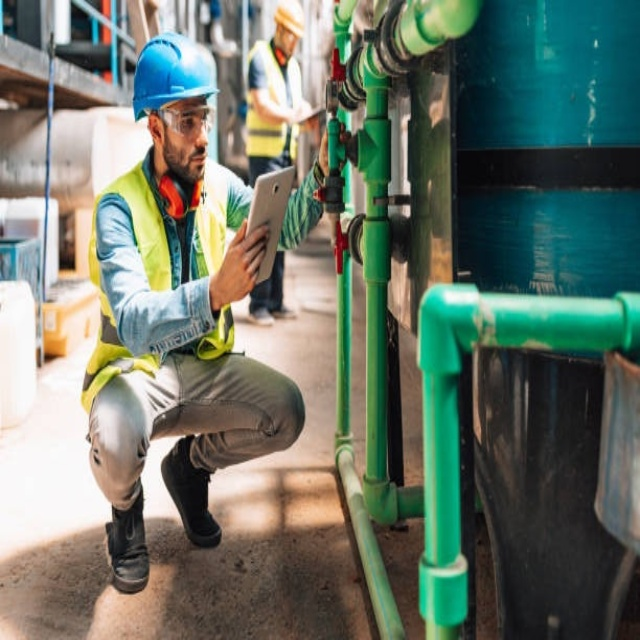Gafas: (158, 106, 215, 136), (281, 27, 300, 48)
Sin_guantes: (212, 220, 269, 308), (316, 122, 347, 180)
Sin_mascara: (179, 147, 208, 184)
